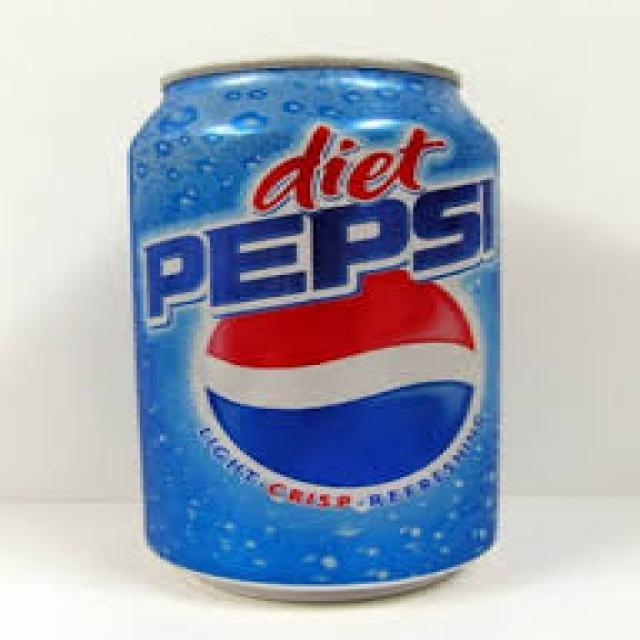recyclable: (122, 51, 502, 604)
